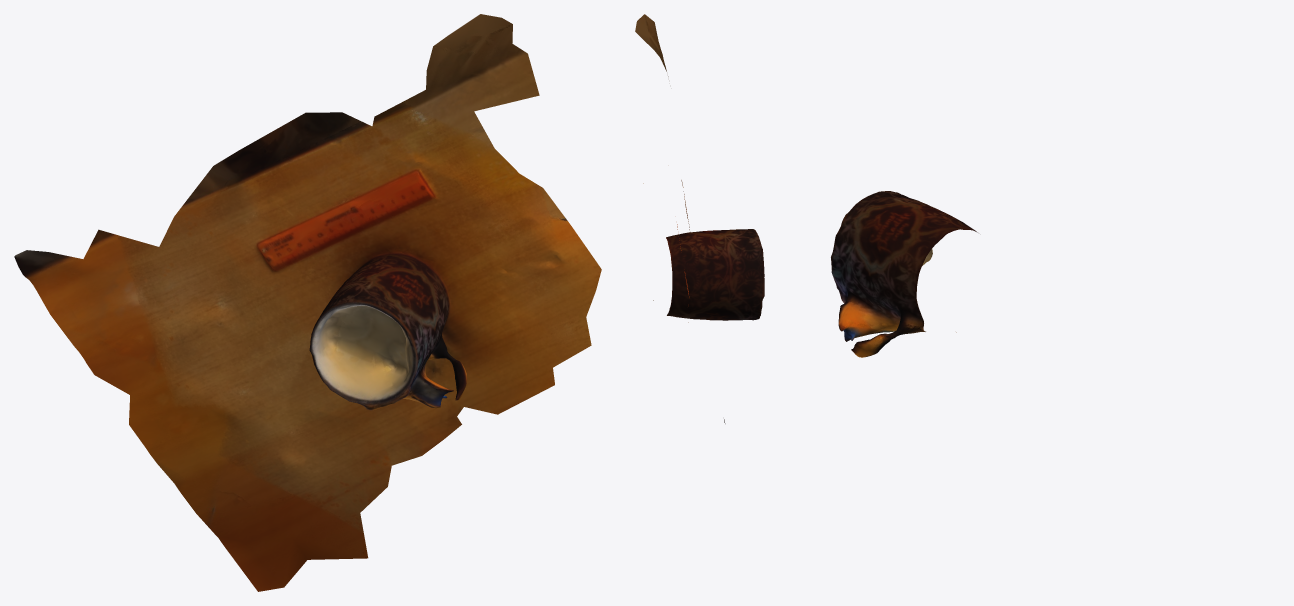
File: model15_prev.glb
3 renders of one model, left to right at view 1: azimuth 30°, elevation 25°; view 2: azimuth 150°, elevation 25°; view 3: azimuth 270°, elevation 25°, orthographic. The views are drawn at different scales.
Size of the model in its own units: 7.37 by 12.4 by 8.47.
1 material, 1 textured.
